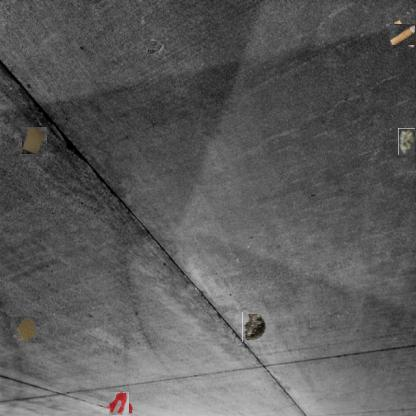dirty: (242, 312, 267, 342), (21, 126, 47, 154), (392, 21, 416, 46), (398, 128, 415, 155), (145, 39, 163, 57)
liquid: (11, 318, 36, 343), (107, 393, 130, 416)
